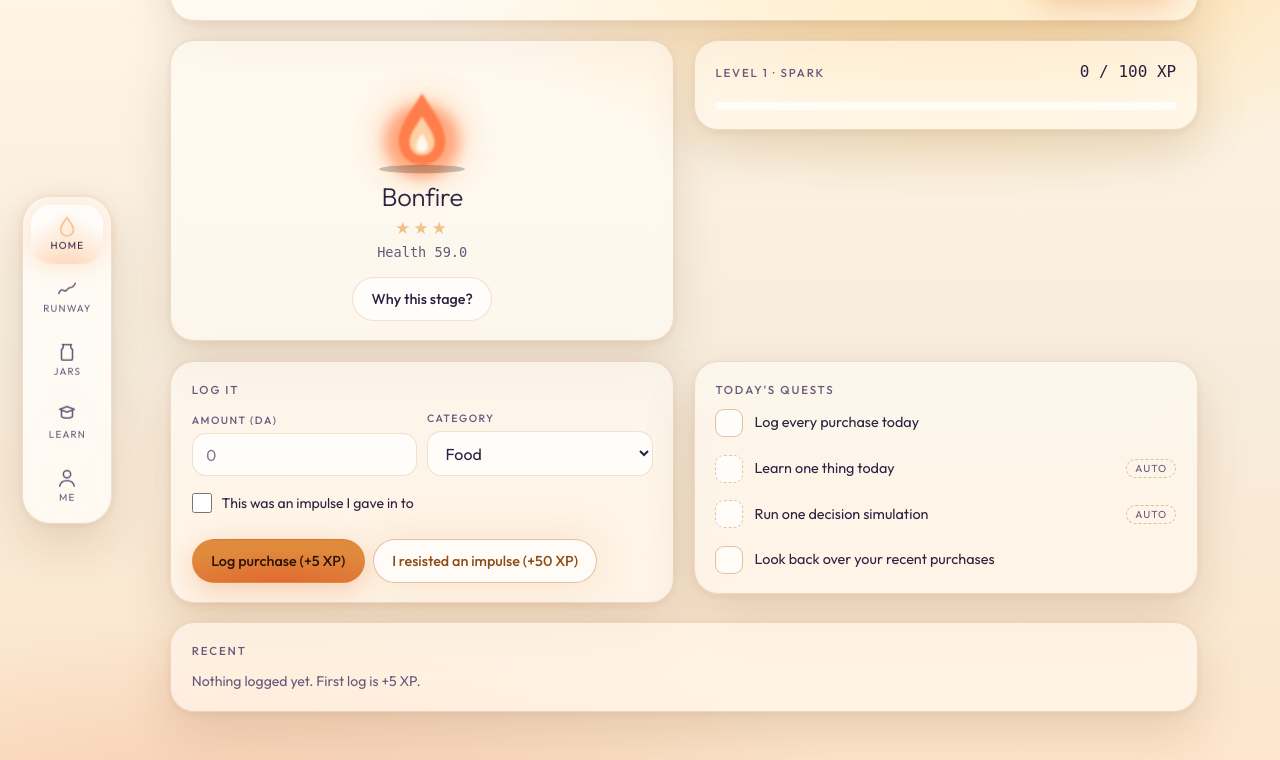
Test: logging flow › shows an inline error instead of failing silently on an empty amount
(page scrolled)
What coordinates should you click on to do the following:
click the button "Log purchase (+5 XP)"
I would click on:
 (278, 561)
Its box is top-left (192, 539), bottom-right (365, 583).
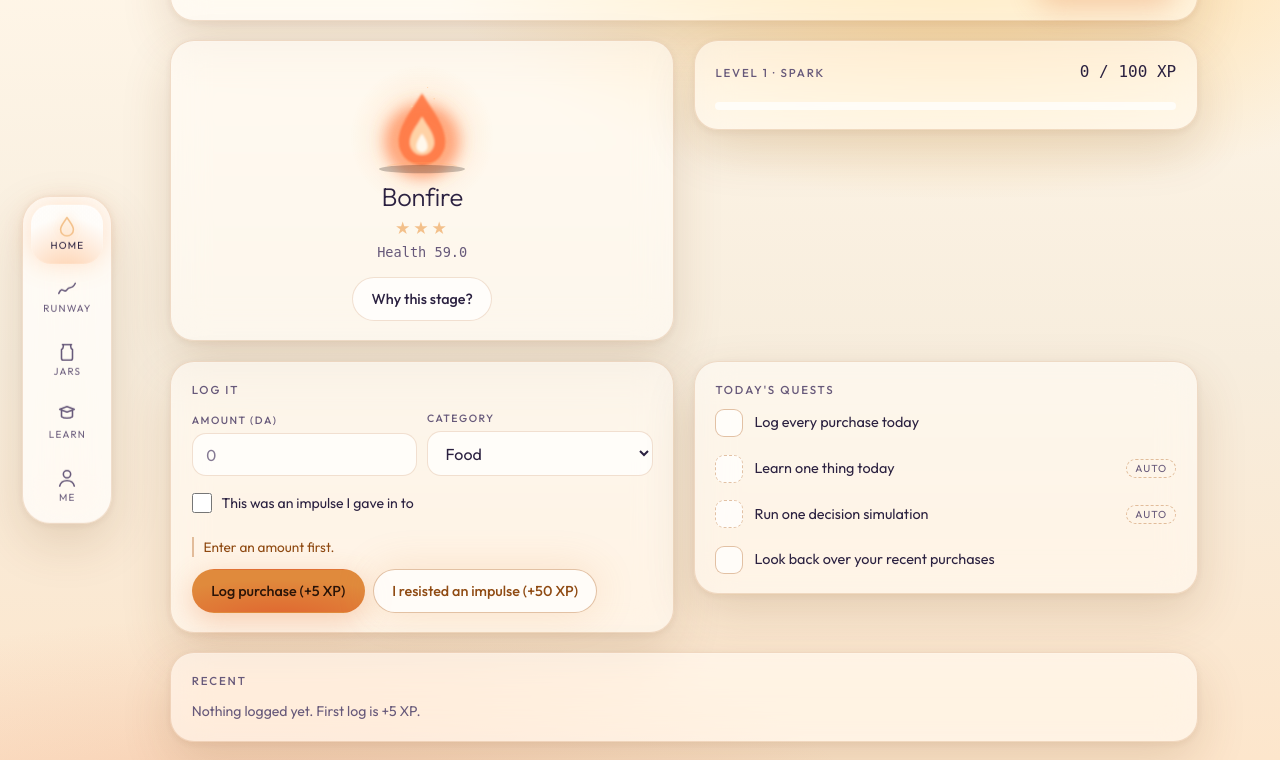
Result: the message reads "Enter an amount first." at top-left (203, 538), bottom-right (334, 556)
